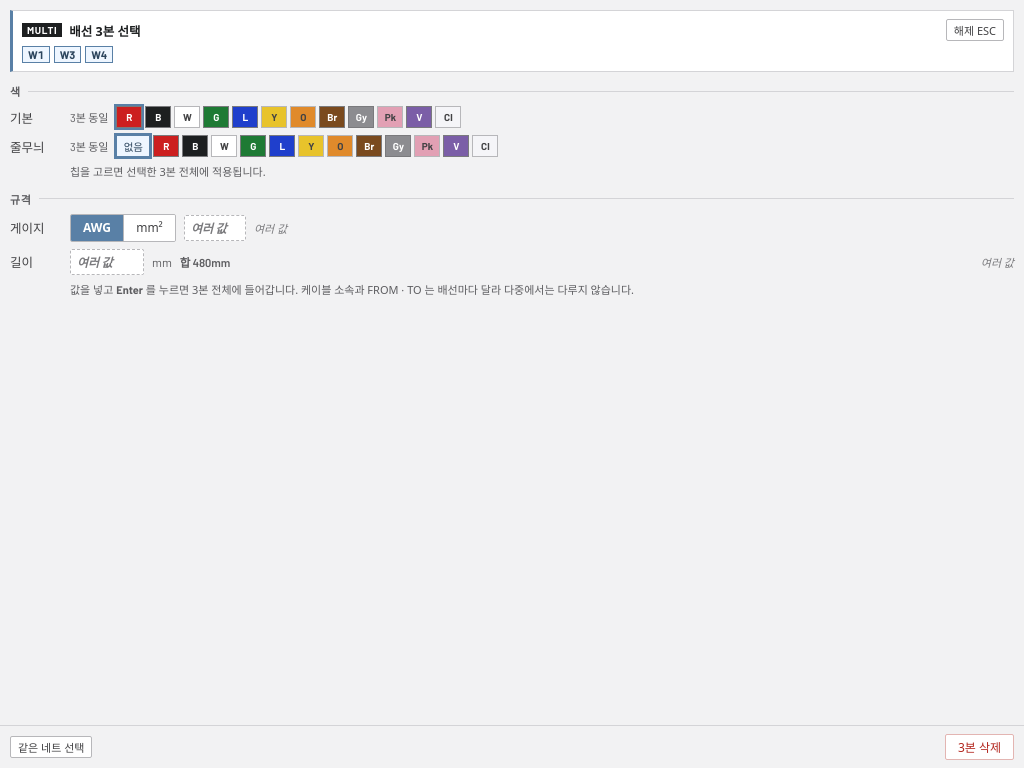
§11 다중 선택 속성 탭 › 칩을 고르면 3본 전체에 들어가고 검은 토스트가 뜬다
Click the button named "기본색 흑(black)" at point(158, 117), box [145,106,171,128]
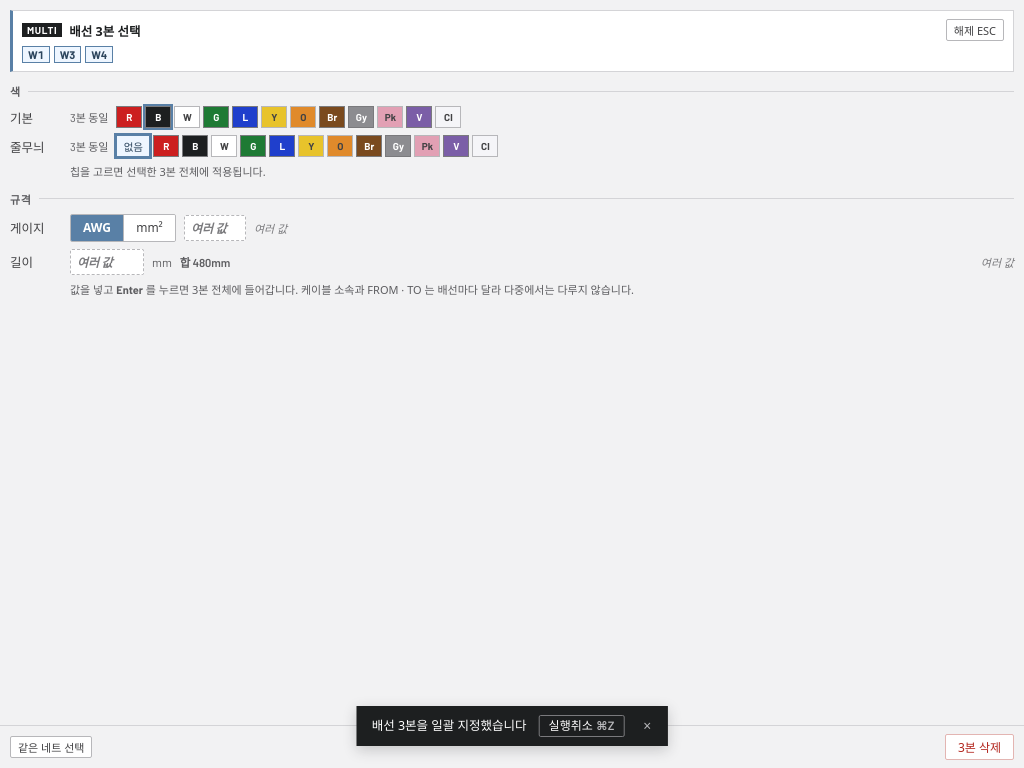
Expected: the text "배선 3본을 일괄 지정했습니다" is shown, [372,717,527,735]
